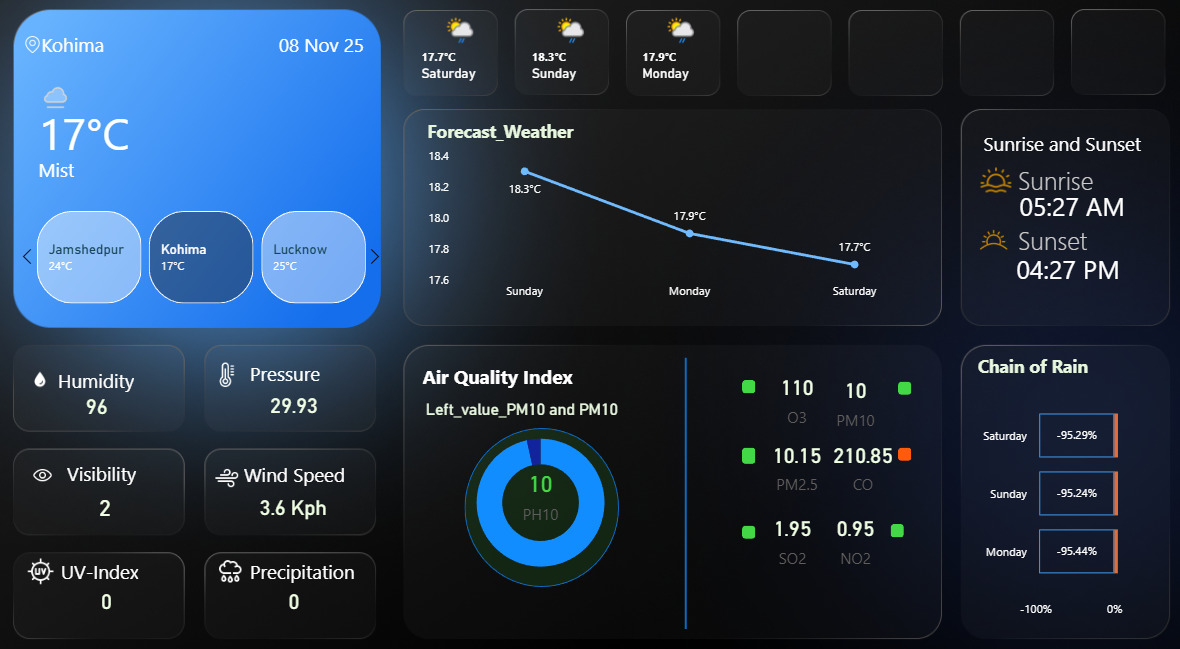

This screenshot's page, from the dashboard's own definition file:
{"tool":"powerbi","page":{"name":"Page 1","canvas":[1280,720],"ordinal":0},"visuals":[{"type":"shape","box":[504.2,464.5,163.8,168.6],"z":0},{"type":"advancedSlicerVisual","fields":{"Values":["Locations.location.name"]},"box":[25.4,229,399.2,108.2],"z":1000},{"type":"shape","box":[52.5,92.3,149.5,116.1],"z":2000},{"type":"shape","box":[52.5,151.1,138.4,77.9],"z":3000},{"type":"shape","box":[259.3,19.1,138.4,77.9],"z":4000},{"type":"shape","box":[55.7,19.1,138.4,77.9],"z":5000},{"type":"image","box":[31.8,38.2,28.6,39.8],"z":6000},{"type":"cardVisual","fields":{"Data":["Min(Current.current.condition.icon)"]},"box":[31.8,76.3,81.1,74.8],"z":7000},{"type":"shape","box":[73.2,386.5,98.6,55.7],"z":8000},{"type":"shape","box":[276.8,386.5,101.8,39.8],"z":9000},{"type":"shape","box":[270.4,497.9,120.9,30.2],"z":10000},{"type":"shape","box":[276.8,596.5,120.9,39.8],"z":11000},{"type":"shape","box":[82.7,485.1,81.1,55.7],"z":12000},{"type":"shape","box":[76.3,596.5,106.6,39.8],"z":13000},{"type":"image","box":[35,399.2,38.2,27],"z":14000},{"type":"image","box":[233.8,389.7,36.6,36.6],"z":15000},{"type":"image","box":[39.8,491.5,33.4,46.1],"z":16000},{"type":"image","box":[233.8,497.9,36.6,39.8],"z":17000},{"type":"image","box":[33.4,596.5,42.9,39.8],"z":18000},{"type":"image","box":[225.9,596.5,60.4,39.8],"z":19000},{"type":"card","fields":{"Values":["Sum(Current.current.humidity)"]},"box":[84.3,415.1,58.9,52.5],"z":20000},{"type":"card","fields":{"Values":["Sum(Current.current.pressure_in)"]},"box":[287.9,413.6,70,52.5],"z":21000},{"type":"card","fields":{"Values":["_Measures.Wind_Speed"]},"box":[276.8,513.8,90.7,68.4],"z":22000},{"type":"card","fields":{"Values":["Sum(Current.current.vis_km)"]},"box":[87.5,521.7,70,52.5],"z":23000},{"type":"card","fields":{"Values":["Sum(Current.current.uv)"]},"box":[89.1,621.9,70,52.5],"z":24000},{"type":"card","fields":{"Values":["Sum(Current.current.precip_in)"]},"box":[287.9,621.9,70,52.5],"z":25000},{"type":"advancedSlicerVisual","fields":{"Values":["Forecast_Day.Day_Name"]},"box":[440.6,19.1,823.9,95.4],"z":26000},{"type":"lineChart","title":"Forecast_Weather","fields":{"Y":["Sum(Forecast_Day.forecast.forecastday.day.avgtemp_c)"],"Category":["Forecast_Day.Day_Name"]},"box":[459.7,136.8,532.9,200.4],"z":27000},{"type":"shape","box":[1054.6,135.2,170.2,55.7],"z":28000},{"type":"shape","box":[1092.7,200.4,135.2,57.3],"z":29000},{"type":"shape","box":[1089.6,265.6,135.2,60.4],"z":30000},{"type":"shape","box":[1091.2,246.5,135.2,36.6],"z":31000},{"type":"shape","box":[1091.2,182.9,135.2,36.6],"z":32000},{"type":"image","box":[1043.4,179.7,49.3,42.9],"z":33000},{"type":"image","box":[1030.7,240.2,70,49.3],"z":34000},{"type":"hundredPercentStackedBarChart","title":"Chain of Rain","fields":{"Y":["Sum(Forecast_Day.forecast.forecastday.day.daily_chance_of_rain)","Current.Left_value_Rain"],"Category":["Forecast_Day.Day_Name"]},"box":[1043.4,386.5,205.2,287.9],"z":35000},{"type":"card","fields":{"Values":["Sum(Current.current.air_quality.pm10)"]},"box":[881.2,400.8,74.8,68.4],"z":36000},{"type":"shape","box":[459.7,389.7,162.2,39.8],"z":37000},{"type":"card","fields":{"Values":["Sum(Current.current.air_quality.co)"]},"box":[889.2,469.2,74.8,68.4],"z":38000},{"type":"card","fields":{"Values":["Sum(Current.current.air_quality.no2)"]},"box":[881.2,547.2,74.8,68.4],"z":39000},{"type":"card","fields":{"Values":["Sum(Current.current.air_quality.o3)"]},"box":[819.2,397.7,74.8,68.4],"z":40000},{"type":"card","fields":{"Values":["Sum(Current.current.air_quality.pm2_5)"]},"box":[819.2,469.2,74.8,68.4],"z":41000},{"type":"card","fields":{"Values":["Sum(Current.current.air_quality.so2)"]},"box":[814.4,547.2,74.8,68.4],"z":42000},{"type":"shape","box":[798.5,413.6,14.3,14.3],"z":43000},{"type":"shape","box":[798.5,485.1,14.3,17.5],"z":44000},{"type":"shape","box":[798.5,567.8,14.3,14.3],"z":45000},{"type":"shape","box":[963.9,415.1,14.3,14.3],"z":46000},{"type":"shape","box":[956,566.3,14.3,14.3],"z":47000},{"type":"shape","box":[963.9,485.1,14.3,14.3],"z":48000},{"type":"shape","box":[685.6,389.7,106.6,287.9],"z":49000},{"type":"card","fields":{"Values":["Sum(Current.current.air_quality.pm10)"]},"box":[547.2,499.5,74.8,68.4],"z":50000},{"type":"donutChart","fields":{"Y":["_Measures.Left_value_PM10","Sum(Current.current.air_quality.pm10)"]},"box":[458.1,434.2,252.9,198.8],"z":51000}]}

Visuals, with their boxes in screenshot pixels (x1, y1, x2, y2), scaled from the page's 1280x720 canvas onto the 1180x649 screenshot:
shape: 465,419,616,571
advancedSlicerVisual - Locations.location.name: 23,206,391,304
shape: 48,83,186,188
shape: 48,136,176,206
shape: 239,17,367,87
shape: 51,17,179,87
image: 29,34,56,70
cardVisual - Min(Current.current.condition.icon): 29,69,104,136
shape: 67,348,158,399
shape: 255,348,349,384
shape: 249,449,361,476
shape: 255,538,367,574
shape: 76,437,151,487
shape: 70,538,169,574
image: 32,360,67,384
image: 216,351,249,384
image: 37,443,67,485
image: 216,449,249,485
image: 31,538,70,574
image: 208,538,264,574
card - Sum(Current.current.humidity): 78,374,132,421
card - Sum(Current.current.pressure_in): 265,373,330,420
card - _Measures.Wind_Speed: 255,463,339,525
card - Sum(Current.current.vis_km): 81,470,145,518
card - Sum(Current.current.uv): 82,561,147,608
card - Sum(Current.current.precip_in): 265,561,330,608
advancedSlicerVisual - Forecast_Day.Day_Name: 406,17,1166,103
"Forecast_Weather" lineChart: 424,123,915,304
shape: 972,122,1129,172
shape: 1007,181,1132,232
shape: 1004,239,1129,294
shape: 1006,222,1131,255
shape: 1006,165,1131,198
image: 962,162,1007,201
image: 950,217,1015,261
"Chain of Rain" hundredPercentStackedBarChart: 962,348,1151,608
card - Sum(Current.current.air_quality.pm10): 812,361,881,423
shape: 424,351,573,387
card - Sum(Current.current.air_quality.co): 820,423,889,485
card - Sum(Current.current.air_quality.no2): 812,493,881,555
card - Sum(Current.current.air_quality.o3): 755,358,824,420
card - Sum(Current.current.air_quality.pm2_5): 755,423,824,485
card - Sum(Current.current.air_quality.so2): 751,493,820,555
shape: 736,373,749,386
shape: 736,437,749,453
shape: 736,512,749,525
shape: 889,374,902,387
shape: 881,510,894,523
shape: 889,437,902,450
shape: 632,351,730,611
card - Sum(Current.current.air_quality.pm10): 504,450,573,512
donutChart - _Measures.Left_value_PM10 x Sum(Current.current.air_quality.pm10): 422,391,655,571
